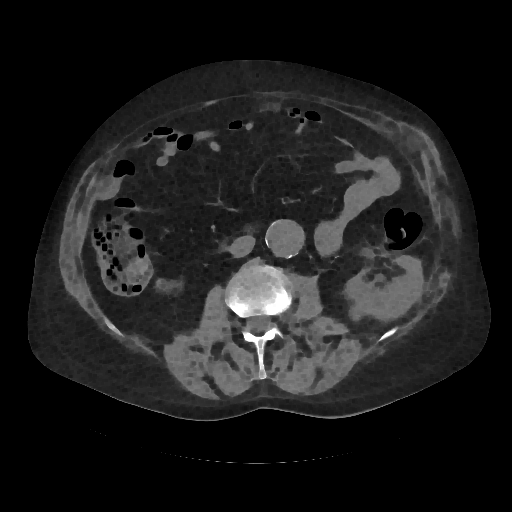Lesion: (344, 300, 369, 326)
